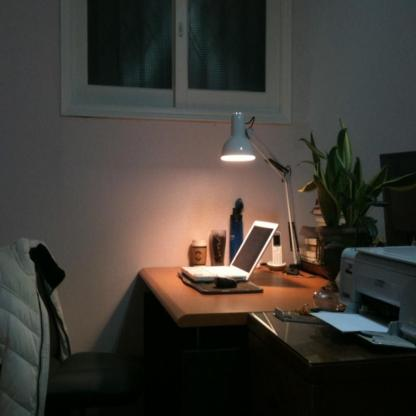board: (180, 218, 278, 282), (230, 198, 244, 266)
